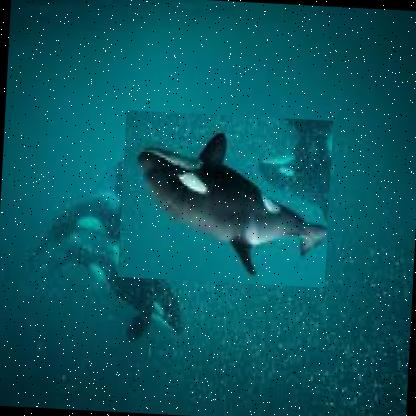killer_whale: (116, 110, 333, 288)
